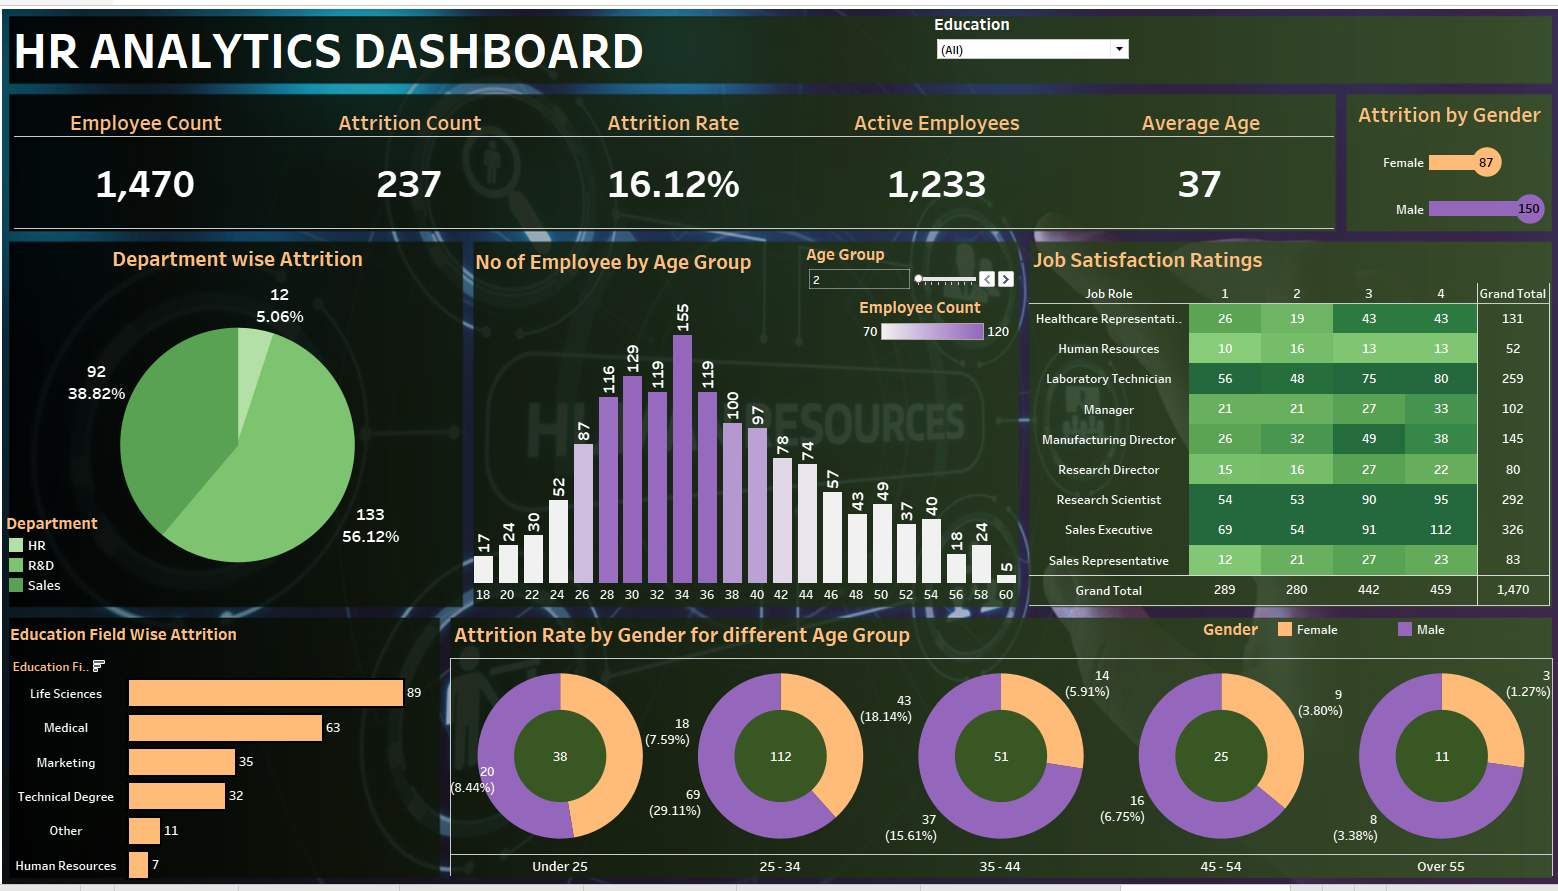

What the dashboard file says about the page in this screenshot:
{"tool":"tableau","page":{"name":"HR Analytics Dashboard","canvas":[1580,900],"ordinal":0},"visuals":[{"type":"image","param":"Image/HR background.png","box":[8,8,1564,884]},{"type":"filter","title":"Department wise attrition","param":"[federated.05vhdyi07l7tch11gef8i0da32oe].[none:Education:nk]","box":[944,16,198,68]},{"type":"text","box":[20,18,735,67]},{"type":"worksheet","title":"KPI","mark":"Automatic","box":[24,99,1320,133]},{"type":"worksheet","title":"Attrition by Gender","mark":"Automatic","rows":["Gender"],"cols":["Calculation_1553178978042343424","Calculation_1553178978042343424"],"box":[1359,99,201,136]},{"type":"worksheet","title":"Department wise attrition","mark":"Pie","box":[19,243,457,368]},{"type":"worksheet","title":"Job Satisfaction Ratings","mark":"Square","rows":["Job Role"],"cols":["Job Satisfaction"],"box":[1039,244,521,365]},{"type":"worksheet","title":"No of Employee by Age Group","mark":"Automatic","rows":["Employee Count"],"cols":["Age (bin)"],"box":[481,246,548,361]},{"type":"parameter","param":"[Parameters].[Parameter 1]","box":[816,246,211,47]},{"type":"dashboard-object","box":[1027,246,24,24]},{"type":"legend","title":"No of Employee by Age Group","param":"[federated.05vhdyi07l7tch11gef8i0da32oe].[sum:Employee Count:qk]","box":[869,299,155,55]},{"type":"legend","title":"Department wise attrition","param":"[federated.05vhdyi07l7tch11gef8i0da32oe].[none:Department:nk]","box":[16,515,140,94]},{"type":"worksheet","title":"Attrition Rate by Gender for different Age Group ","mark":"Pie","rows":["Calculation_711850273083723777","Calculation_711850273083723777"],"cols":["CF_age band"],"box":[460,619,1103,261]},{"type":"worksheet","title":"Education Field Wise Attrition","mark":"Automatic","rows":["Education Field"],"cols":["Calculation_1553178978042343424"],"box":[16,622,434,263]},{"type":"legend","title":"Attrition Rate by Gender for different Age Group ","param":"[federated.05vhdyi07l7tch11gef8i0da32oe].[none:Gender:nk]","box":[1213,622,349,38]}]}

Visuals, with their boxes in screenshot pixels (x1, y1, x2, y2), scaled from the page's 1580x900 canvas onto the 1558x891 screenshot:
image: bbox(8, 8, 1550, 883)
"Department wise attrition" filter: bbox(931, 16, 1126, 83)
text: bbox(20, 18, 744, 84)
"KPI" worksheet: bbox(24, 98, 1325, 230)
"Attrition by Gender" worksheet: bbox(1340, 98, 1538, 233)
"Department wise attrition" worksheet (Pie marks): bbox(19, 241, 469, 605)
"Job Satisfaction Ratings" worksheet (Square marks): bbox(1025, 242, 1538, 603)
"No of Employee by Age Group" worksheet: bbox(474, 244, 1015, 601)
parameter: bbox(805, 244, 1013, 290)
dashboard-object: bbox(1013, 244, 1036, 267)
"No of Employee by Age Group" legend: bbox(857, 296, 1010, 350)
"Department wise attrition" legend: bbox(16, 510, 154, 603)
"Attrition Rate by Gender for different Age Group " worksheet (Pie marks): bbox(454, 613, 1541, 871)
"Education Field Wise Attrition" worksheet: bbox(16, 616, 444, 876)
"Attrition Rate by Gender for different Age Group " legend: bbox(1196, 616, 1540, 653)
